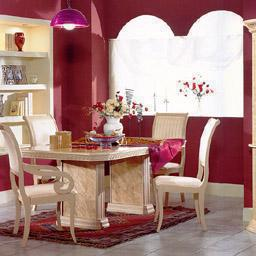Ventana: (110, 23, 185, 114), (183, 13, 245, 119)
